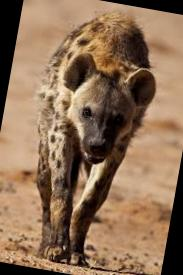hyenas: (0, 0, 183, 273)
